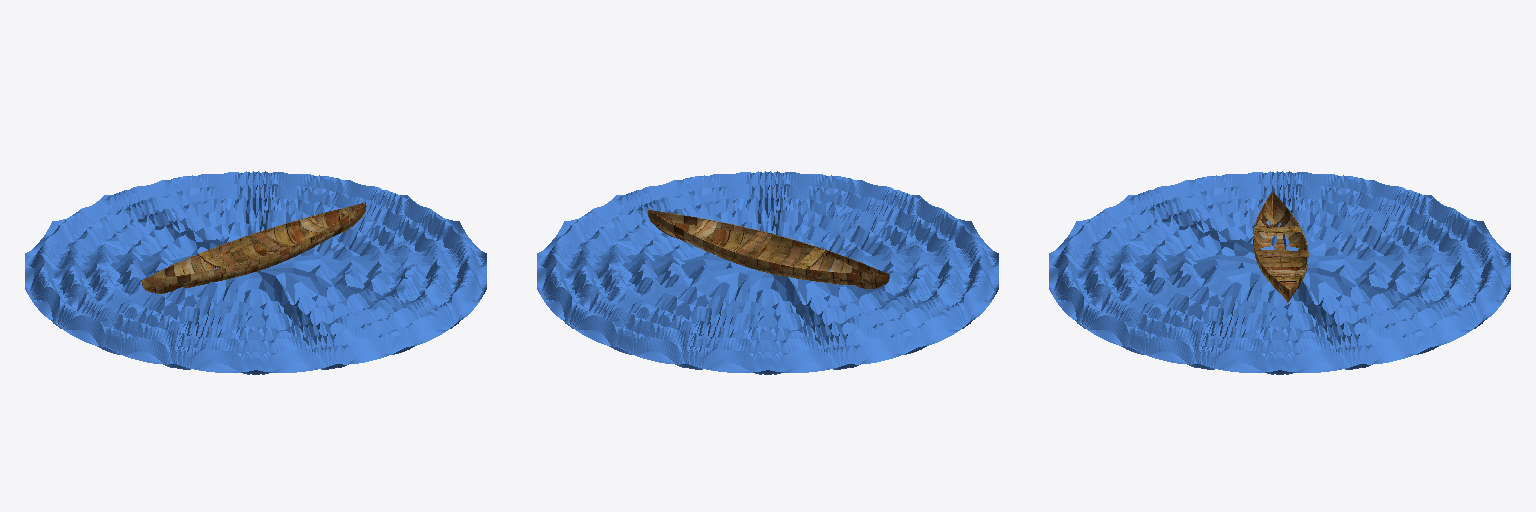
The picture shows the model from 3 angles: view 1: azimuth 30°, elevation 25°; view 2: azimuth 150°, elevation 25°; view 3: azimuth 270°, elevation 25°; orthographic projection.
Visible parts, largest first — view 1: Cylinder001, arch48_022_obj_01; view 2: Cylinder001, arch48_022_obj_01; view 3: Cylinder001, arch48_022_obj_01.
Boxes of the visible parts, <box> form: Cylinder001: <box>25,171,486,374</box>; arch48_022_obj_01: <box>141,202,365,293</box>; Cylinder001: <box>537,171,998,374</box>; arch48_022_obj_01: <box>648,209,889,288</box>; Cylinder001: <box>1049,171,1510,374</box>; arch48_022_obj_01: <box>1253,191,1308,302</box>.
Bounding box in the file's own units: 8120 × 839 × 7996.
2 materials, 1 textured.